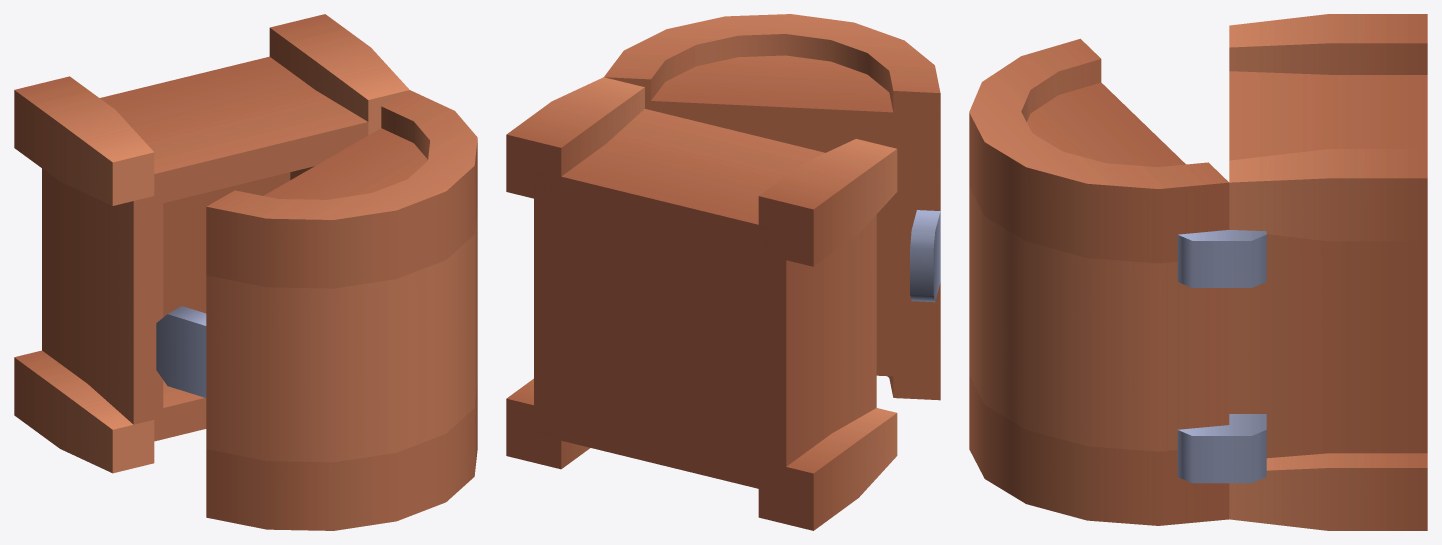
File: survival-chest.glb
3 views of the same model, side by side, from view 1: azimuth 30°, elevation 25°; view 2: azimuth 150°, elevation 25°; view 3: azimuth 270°, elevation 25° (orthographic). The views are drawn at different scales.
Visible parts, largest first — view 1: lid, chest; view 2: chest, lid; view 3: chest, lid.
Part boxes in pixels (x1=…): lid: x1=156, y1=90, x2=477, y2=530; chest: x1=14, y1=14, x2=409, y2=473; chest: x1=506, y1=77, x2=897, y2=530; lid: x1=604, y1=14, x2=940, y2=400; chest: x1=1177, y1=14, x2=1427, y2=530; lid: x1=969, y1=38, x2=1229, y2=525.
Bounding box in the file's own units: 1.1 × 1.05 × 1.24.
Materials: 1 (1 with a texture image).
